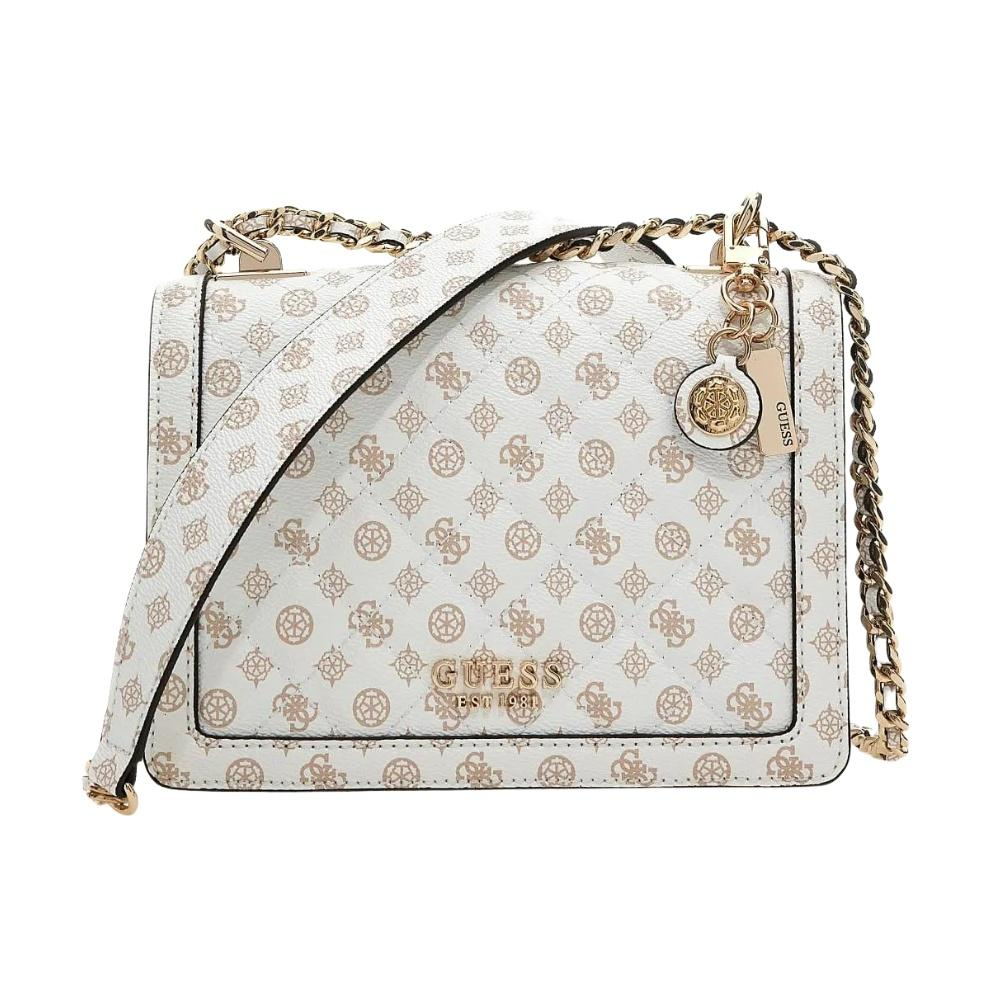GUESS: (430, 658, 563, 690), (776, 401, 794, 447)
